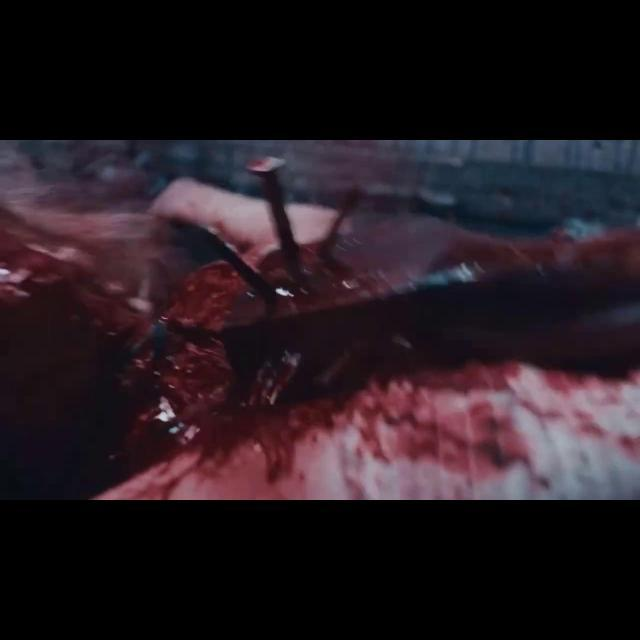blood: (0, 158, 640, 499)
